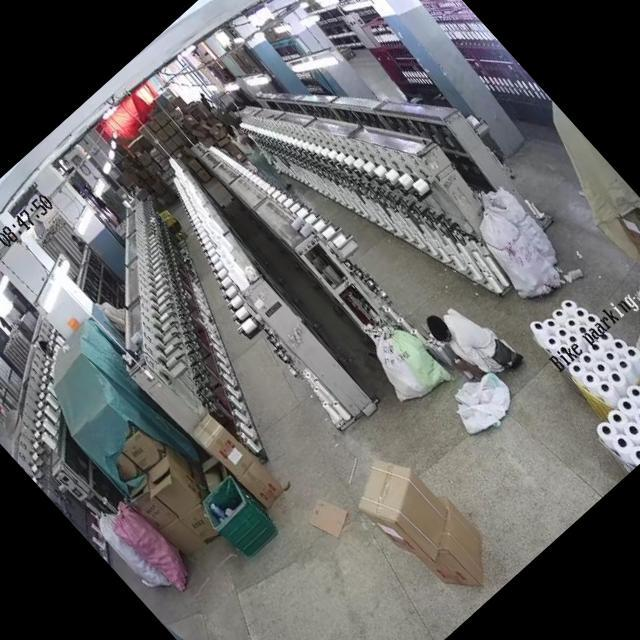person: (418, 283, 520, 388), (217, 114, 299, 202)
